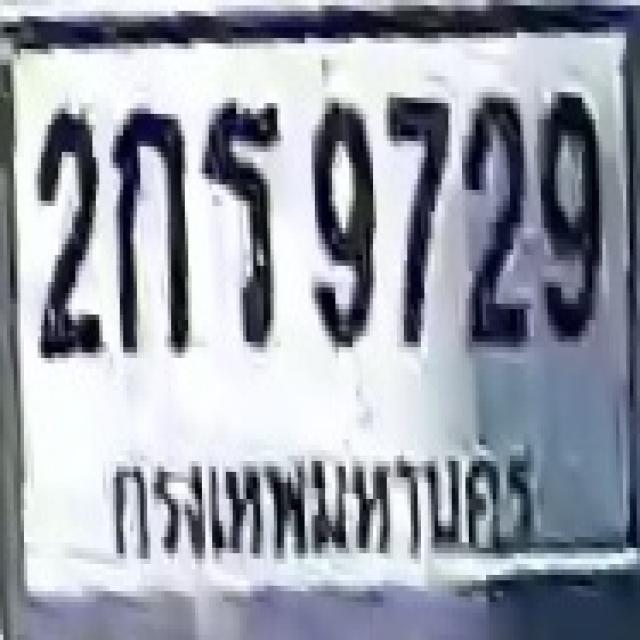2: (462, 92, 527, 347), (34, 106, 99, 355)
7: (384, 92, 448, 347)
9: (308, 98, 373, 347), (538, 89, 602, 339)
A01: (111, 103, 187, 353)
A35: (199, 95, 277, 344)
BKK: (95, 440, 552, 558)
